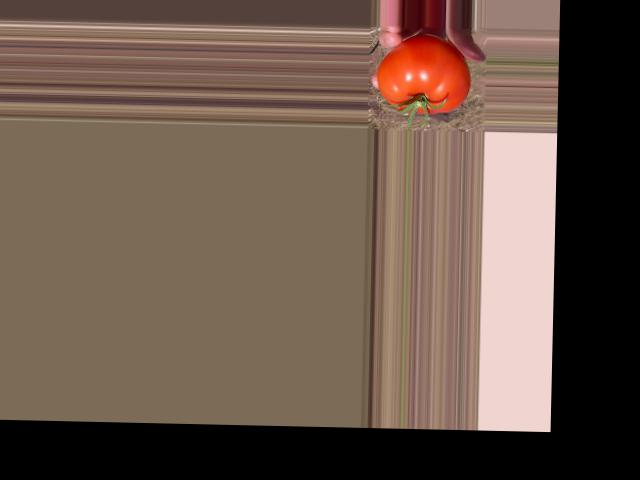tomato: (376, 33, 471, 115)
